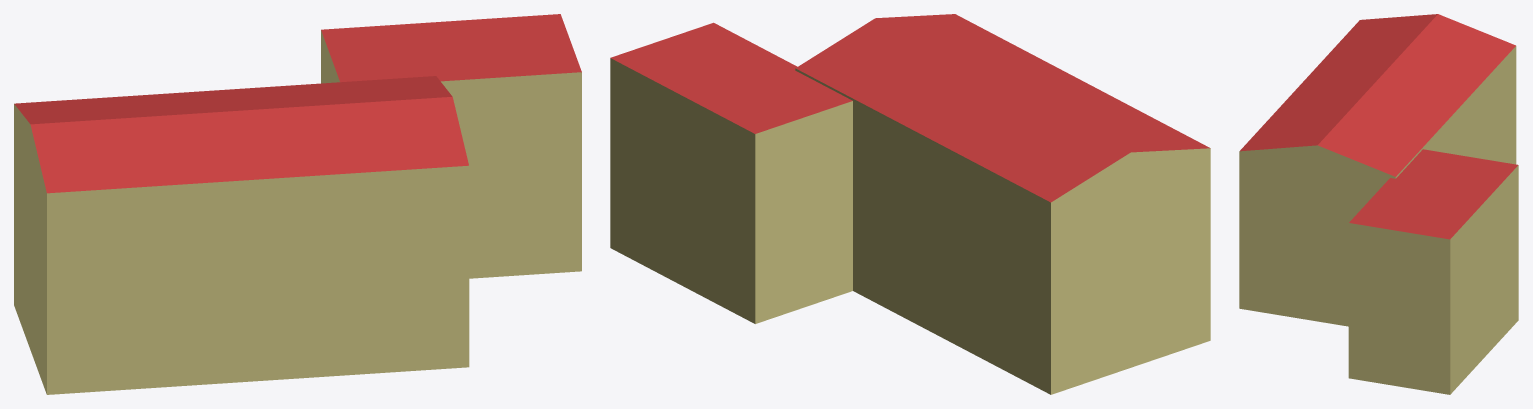
3 renders of one model, left to right at view 1: azimuth 30°, elevation 25°; view 2: azimuth 150°, elevation 25°; view 3: azimuth 270°, elevation 25°, orthographic. The views are drawn at different scales.
Size of the model in its own units: 24.68 by 13.38 by 9.31.
